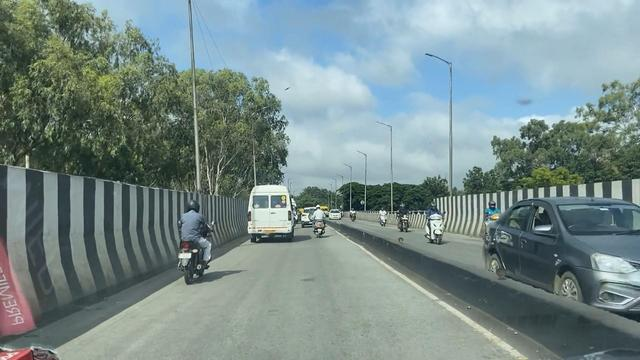HMV: (247, 180, 297, 244)
LMV: (172, 197, 210, 284), (311, 198, 326, 241)
